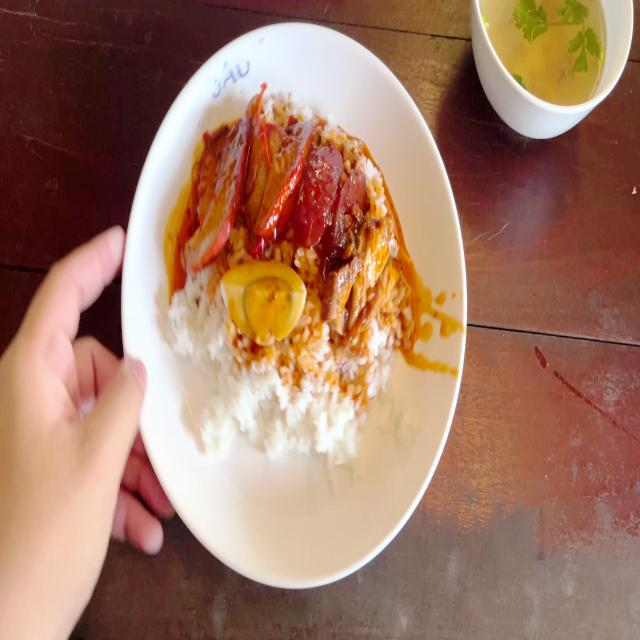boiled_egg: (230, 259, 298, 341)
chainese_sausage: (297, 145, 361, 259)
crispy_pork: (341, 201, 395, 335)
red_pork: (187, 104, 303, 247)
red_pork_and_crispy_pork: (182, 112, 409, 449)
rice: (222, 348, 313, 465), (321, 323, 393, 433), (165, 274, 224, 384)
